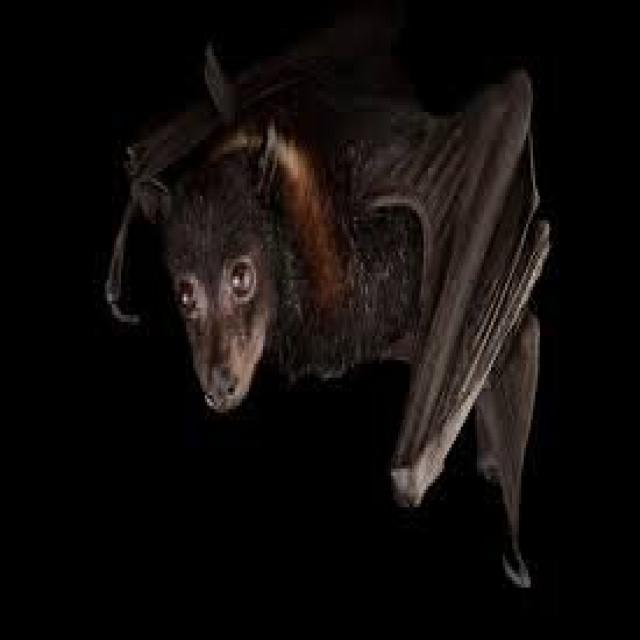Bat: (108, 68, 550, 579)
